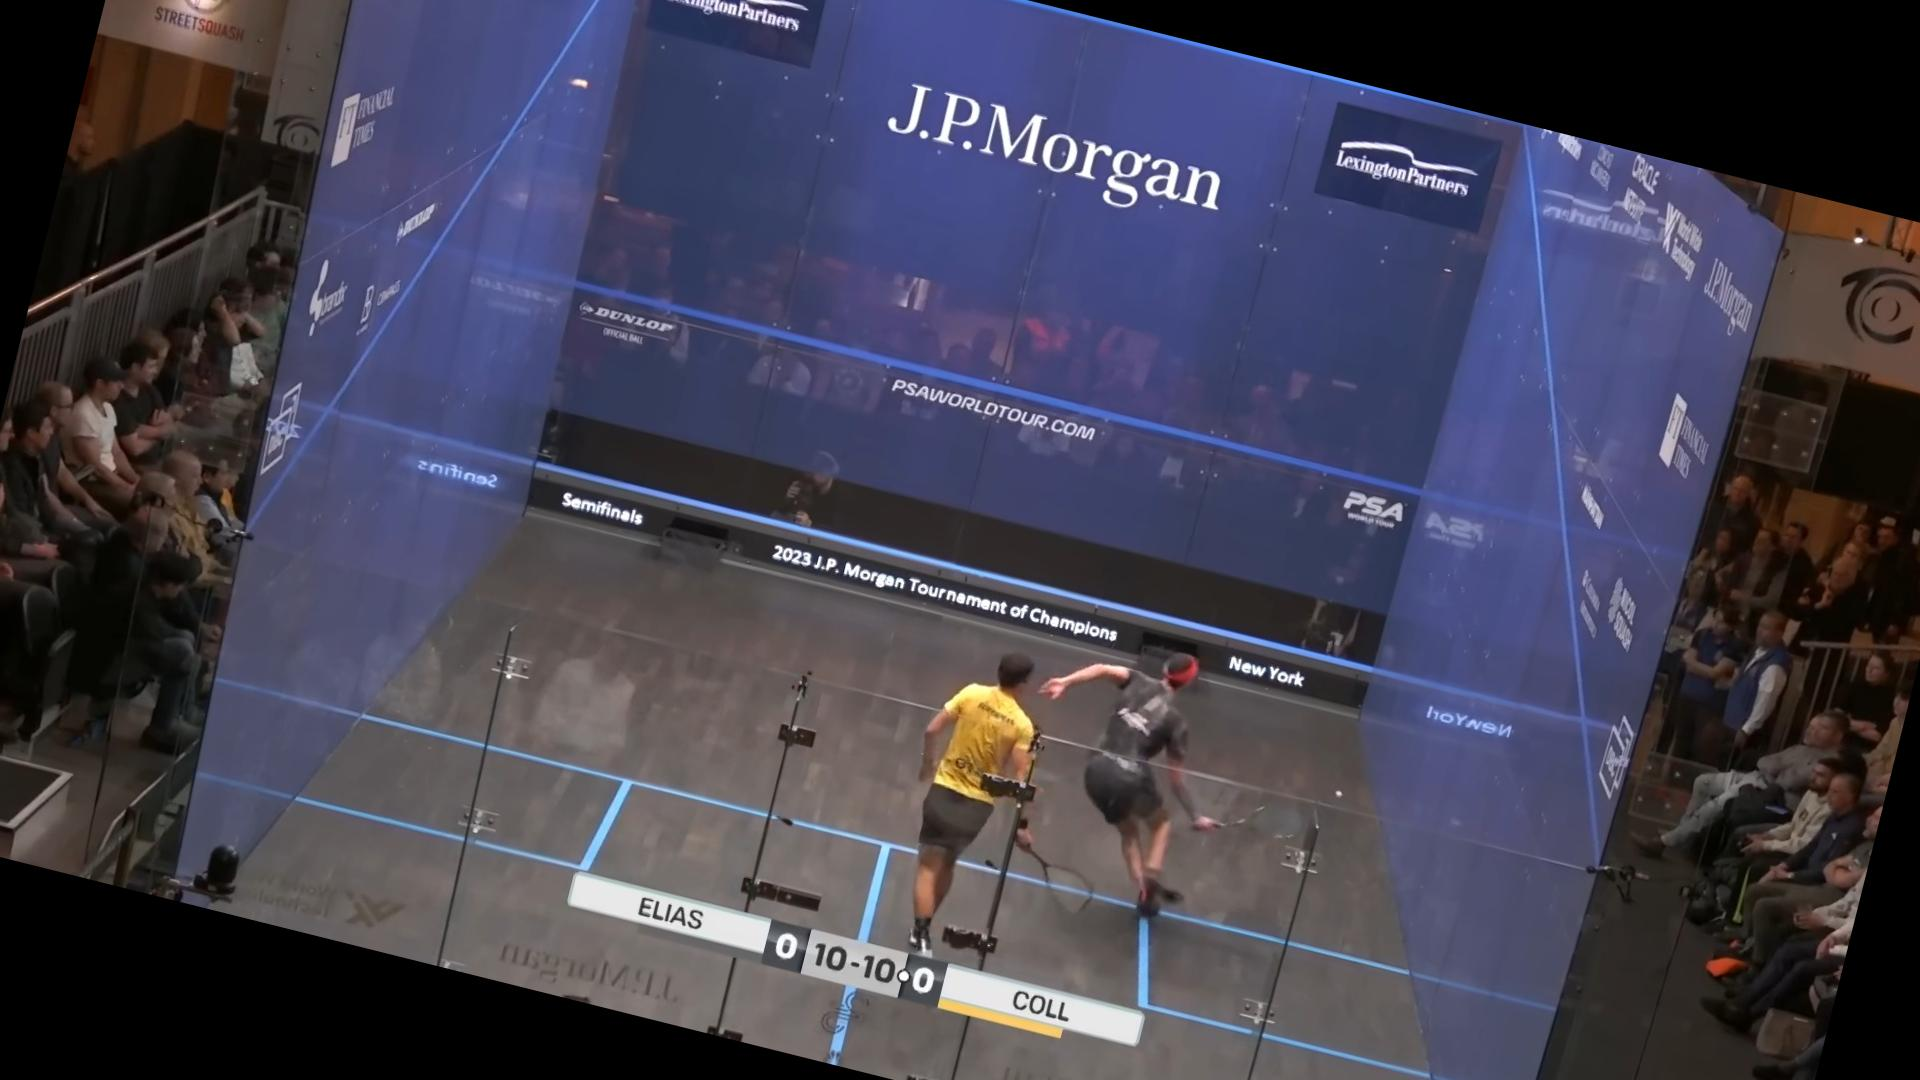Racket: (1185, 767, 1317, 862), (1001, 840, 1109, 923)
